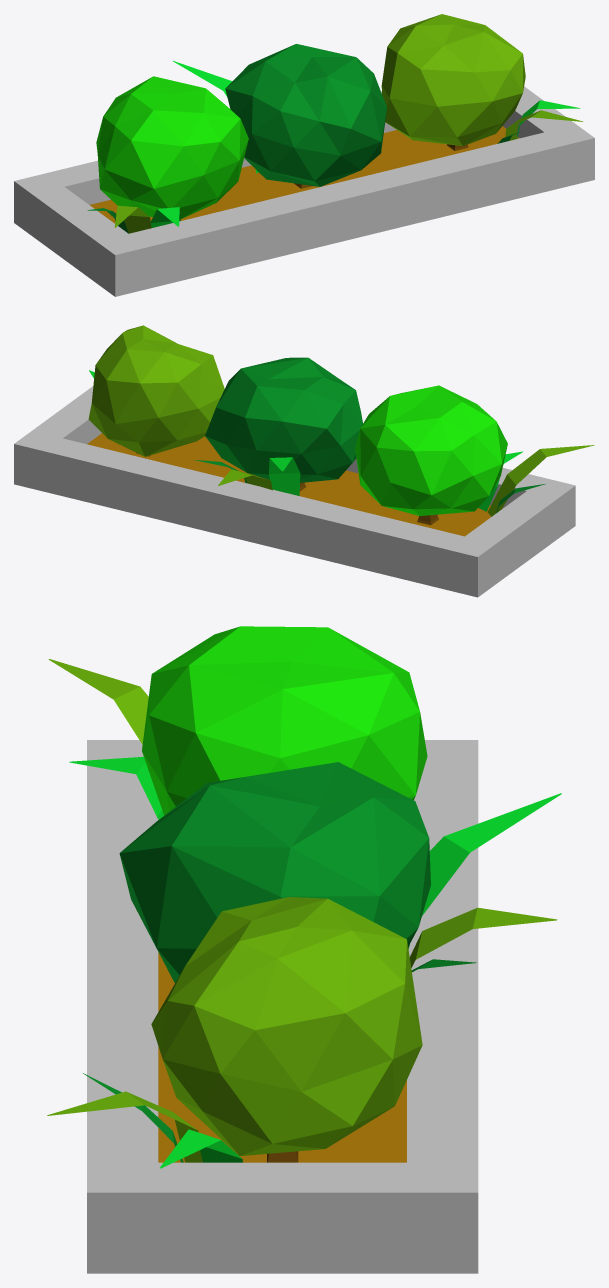
3 renders of one model, top to bottom at view 1: azimuth 30°, elevation 25°; view 2: azimuth 150°, elevation 25°; view 3: azimuth 270°, elevation 25°, orthographic. The views are drawn at different scales.
Parts seen in each view (by area): view 1: grass_box; view 2: grass_box; view 3: grass_box.
Part boxes in pixels (x1,y1,x2,y2): grass_box: [14, 14, 594, 296]; grass_box: [14, 325, 594, 597]; grass_box: [47, 626, 561, 1273].
Bounding box in the file's own units: 1.96 × 0.5237 × 0.913.
